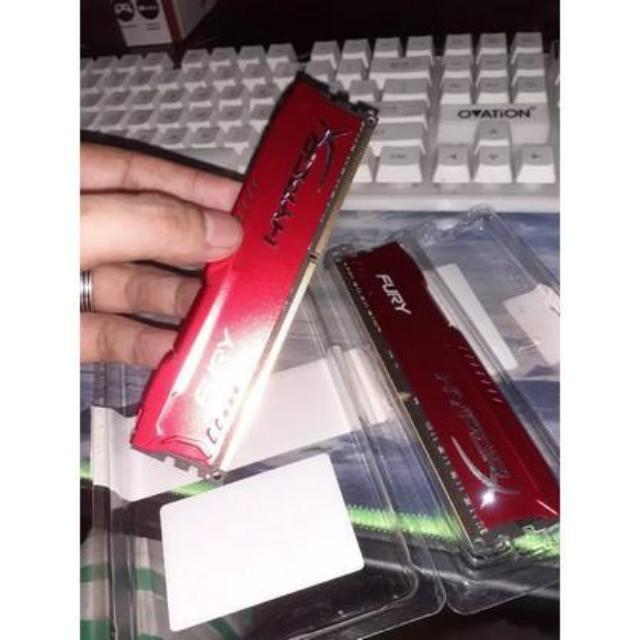RAM: (117, 62, 392, 487), (328, 223, 560, 557)
